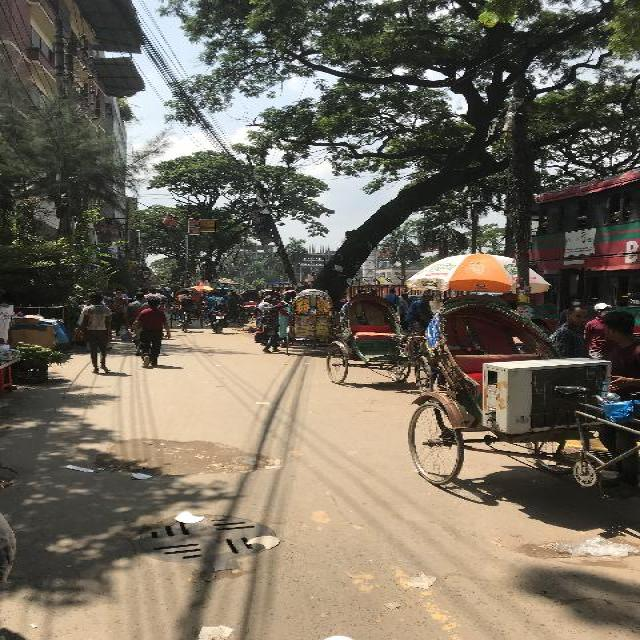bicycle: (175, 289, 193, 333)
motorbike: (202, 290, 230, 334)
rickshaw: (404, 288, 636, 488), (324, 292, 433, 396), (285, 288, 336, 357), (236, 289, 260, 325)
